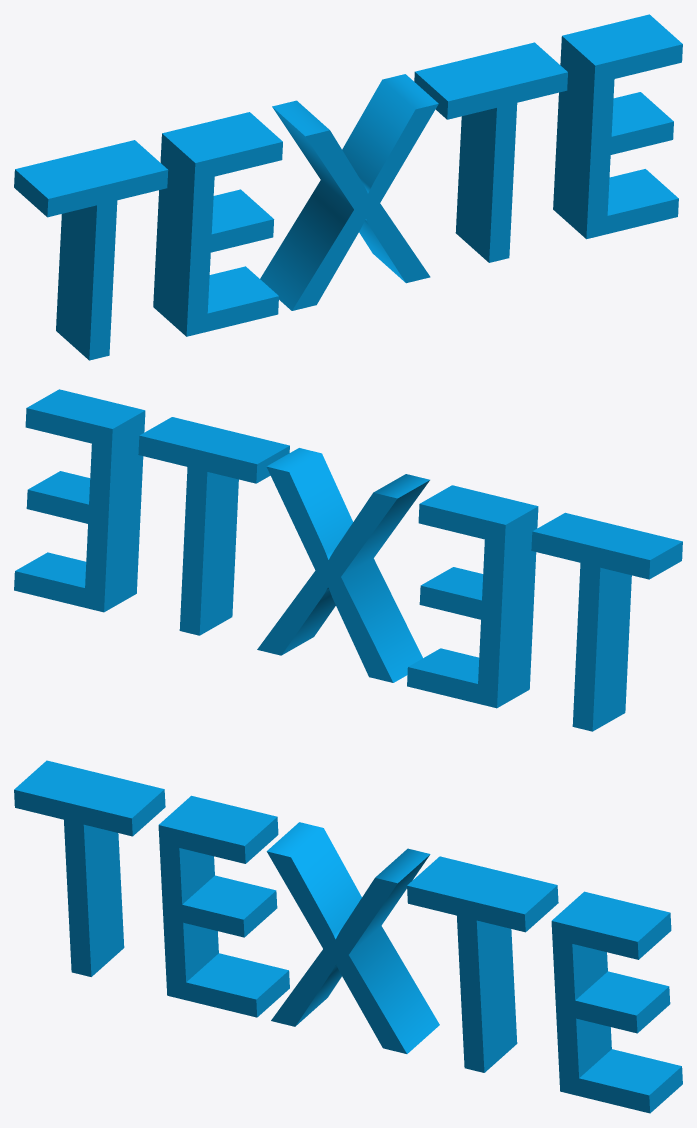
Rendered from Sans titre.fbx.
3 renders of one model, top to bottom at view 1: azimuth 30°, elevation 25°; view 2: azimuth 150°, elevation 25°; view 3: azimuth 330°, elevation 25°, orthographic.
Parts seen in each view (by area): view 1: node_id39; view 2: node_id39; view 3: node_id39.
Part boxes in pixels (<box>): node_id39: <box>14,14,682,360</box>; node_id39: <box>14,389,682,731</box>; node_id39: <box>14,760,682,1113</box>.
Bounding box in the file's own units: 0.2477 × 0.0688 × 0.0283.
